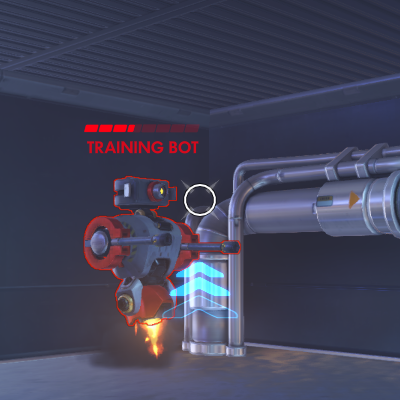hpbar: (83, 124, 200, 133)
